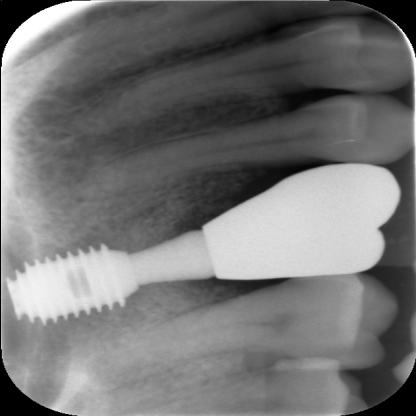Bicon: (0, 236, 155, 332)
